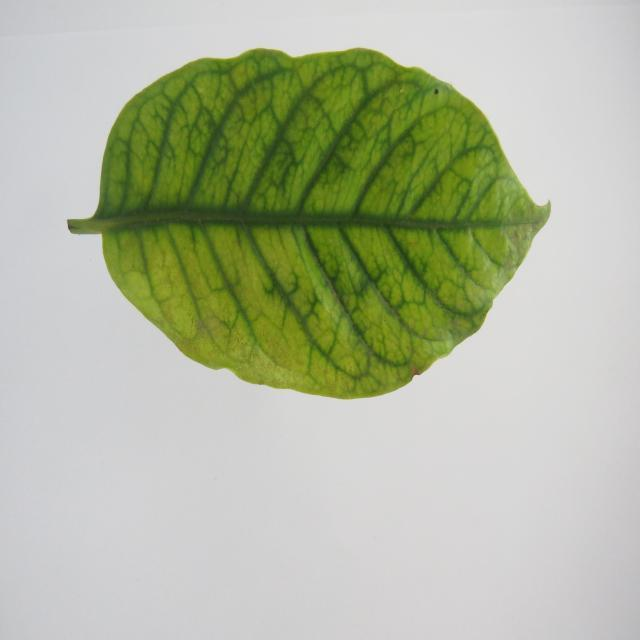DeficienciaNutricional-Magnesio: (69, 48, 550, 398)
